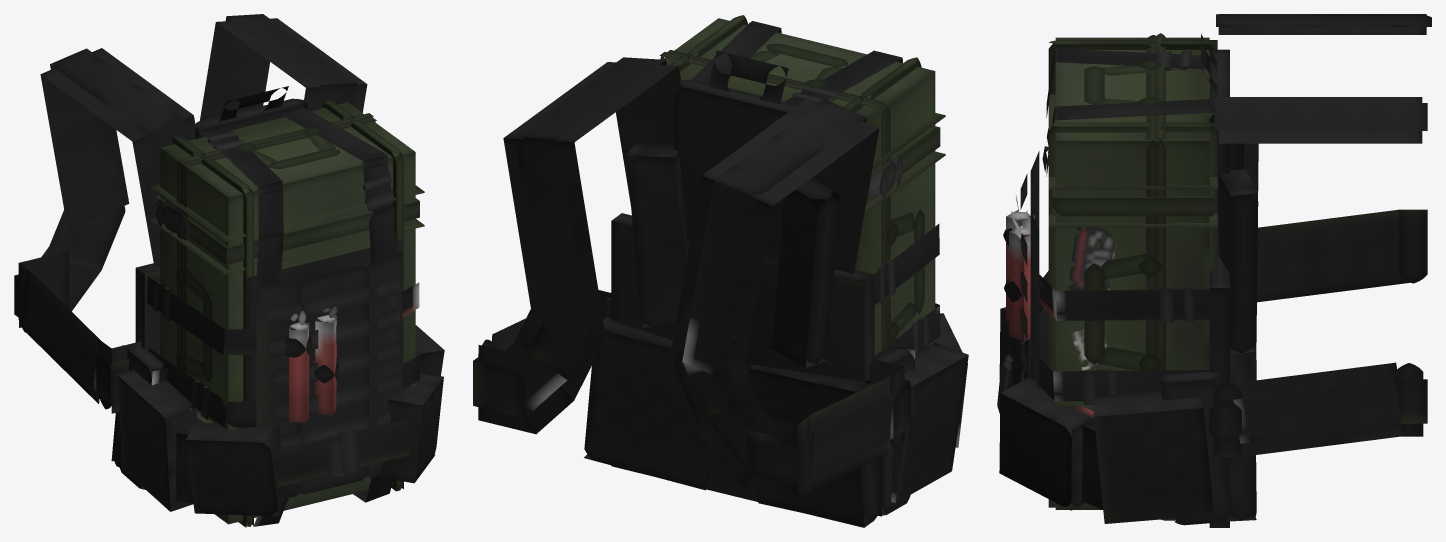
Rendered from container_carrier.obj.
3 views of the same model, side by side, from view 1: azimuth 30°, elevation 25°; view 2: azimuth 150°, elevation 25°; view 3: azimuth 270°, elevation 25° (orthographic). The views are drawn at different scales.
Parts seen in each view (by area): view 1: Case_rig, Case; view 2: Case_rig, Case; view 3: Case_rig, Case.
Part boxes in pixels (x1,y1,x2,y2): Case_rig: (14, 14, 444, 526); Case: (150, 99, 424, 527); Case_rig: (473, 21, 968, 527); Case: (660, 15, 945, 355); Case_rig: (997, 14, 1431, 527); Case: (1048, 33, 1217, 509).
Bounding box in the file's own units: 0.5684 × 0.717 × 0.6667.
